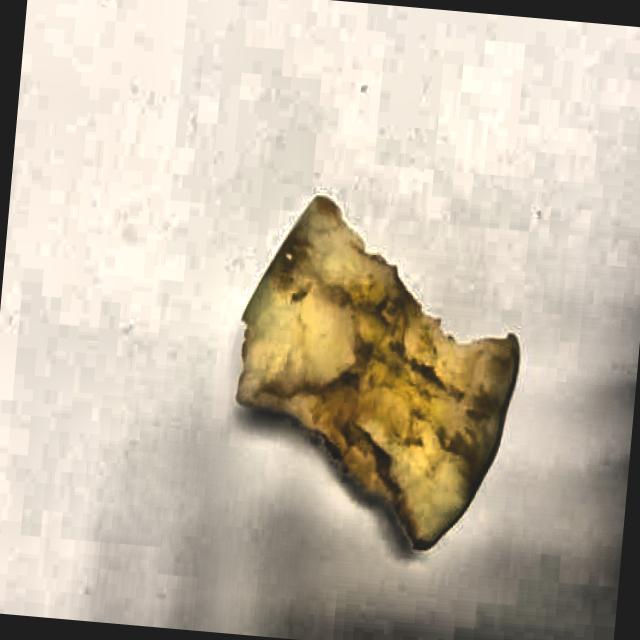trash: (216, 177, 534, 560)
